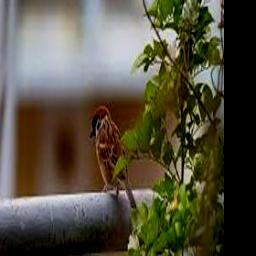Sparrow: (91, 105, 137, 208)
